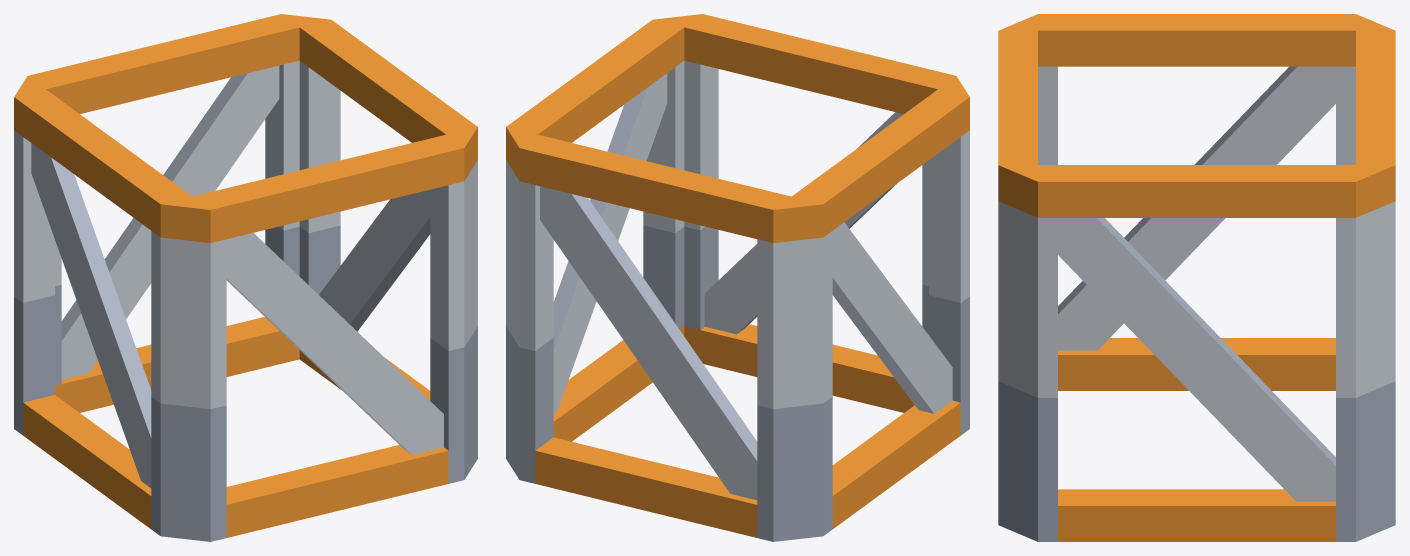
The model's file is torre_estructura.obj.
The picture shows the model from 3 angles, left to right: view 1: azimuth 30°, elevation 25°; view 2: azimuth 150°, elevation 25°; view 3: azimuth 270°, elevation 25°; orthographic projection. The views are drawn at different scales.
Visible parts, largest first — view 1: torre_estructura; view 2: torre_estructura; view 3: torre_estructura.
Part boxes in pixels (x1,y1,x2,y2): torre_estructura: (14,14,477,541); torre_estructura: (506,14,969,541); torre_estructura: (998,14,1395,541).
Bounding box in the file's own units: 1 × 1 × 1.
